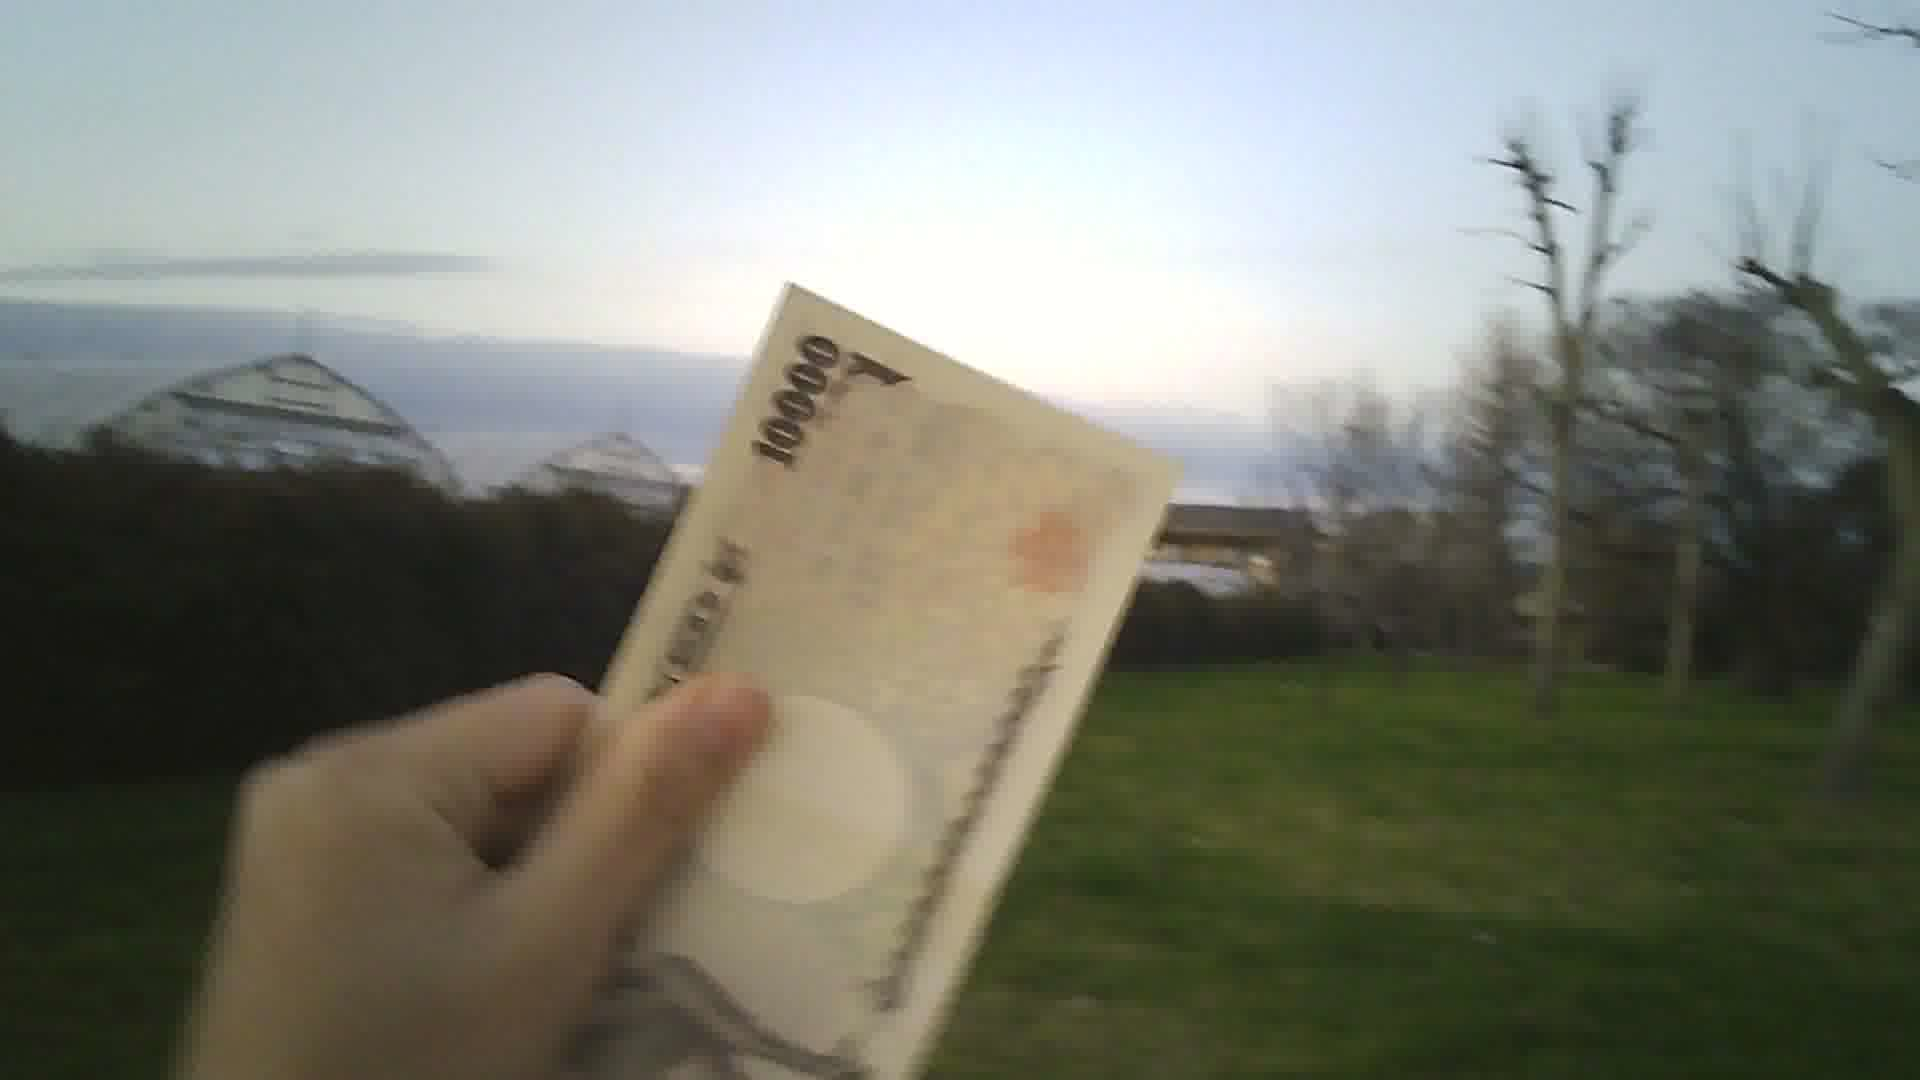10,000 Yen: (516, 272, 1162, 1079)
